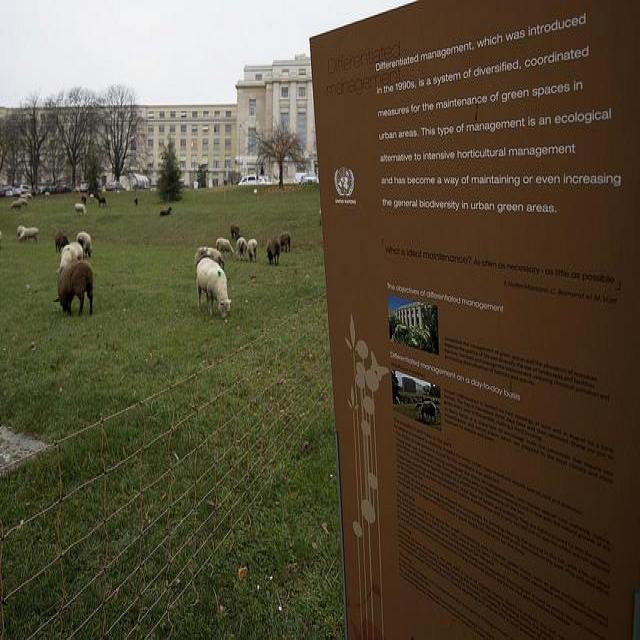Sheep: (196, 258, 232, 322), (55, 263, 94, 317)
